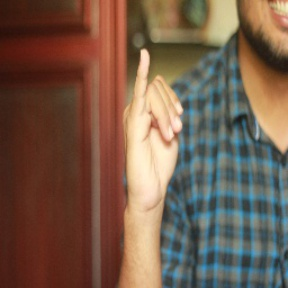I: (118, 48, 190, 205)
